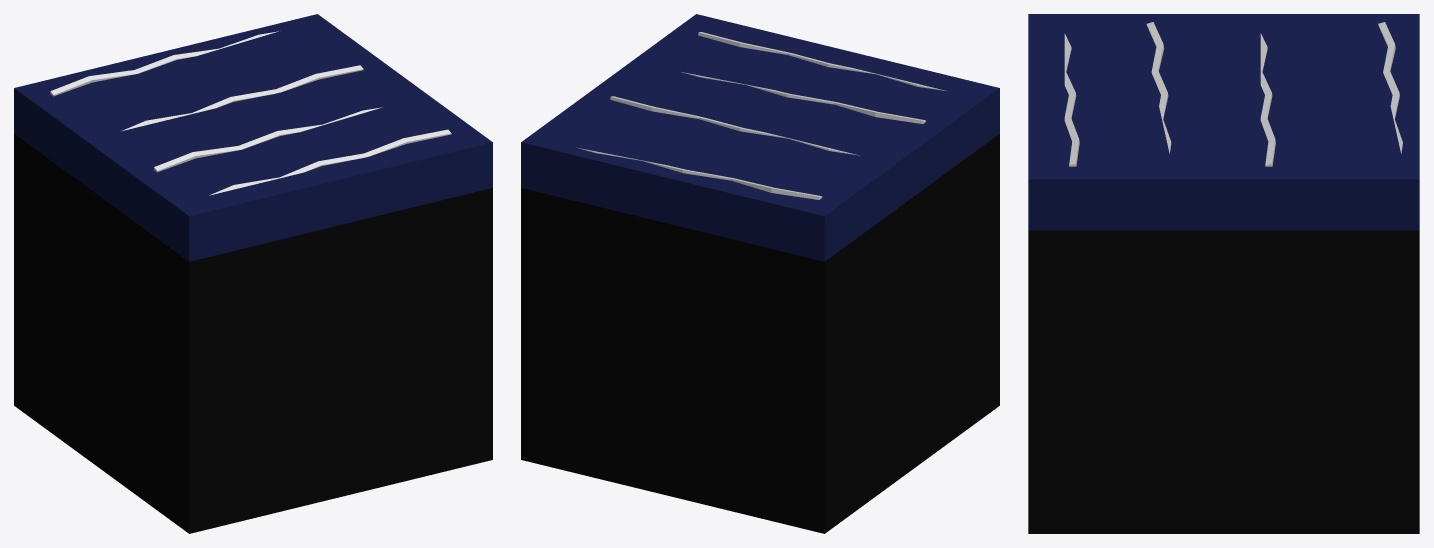
The model's file is Tile-Ocean.glb.
The picture shows the model from 3 angles, left to right: view 1: azimuth 30°, elevation 25°; view 2: azimuth 150°, elevation 25°; view 3: azimuth 270°, elevation 25°; orthographic projection. The views are drawn at different scales.
Visible parts, largest first — view 1: Cube; view 2: Cube; view 3: Cube.
Part boxes in pixels (x1,y1,x2,y2): Cube: (14,14,492,533); Cube: (521,14,999,533); Cube: (1028,14,1419,533).
Size of the model in its own units: 2 by 2.03 by 2.
